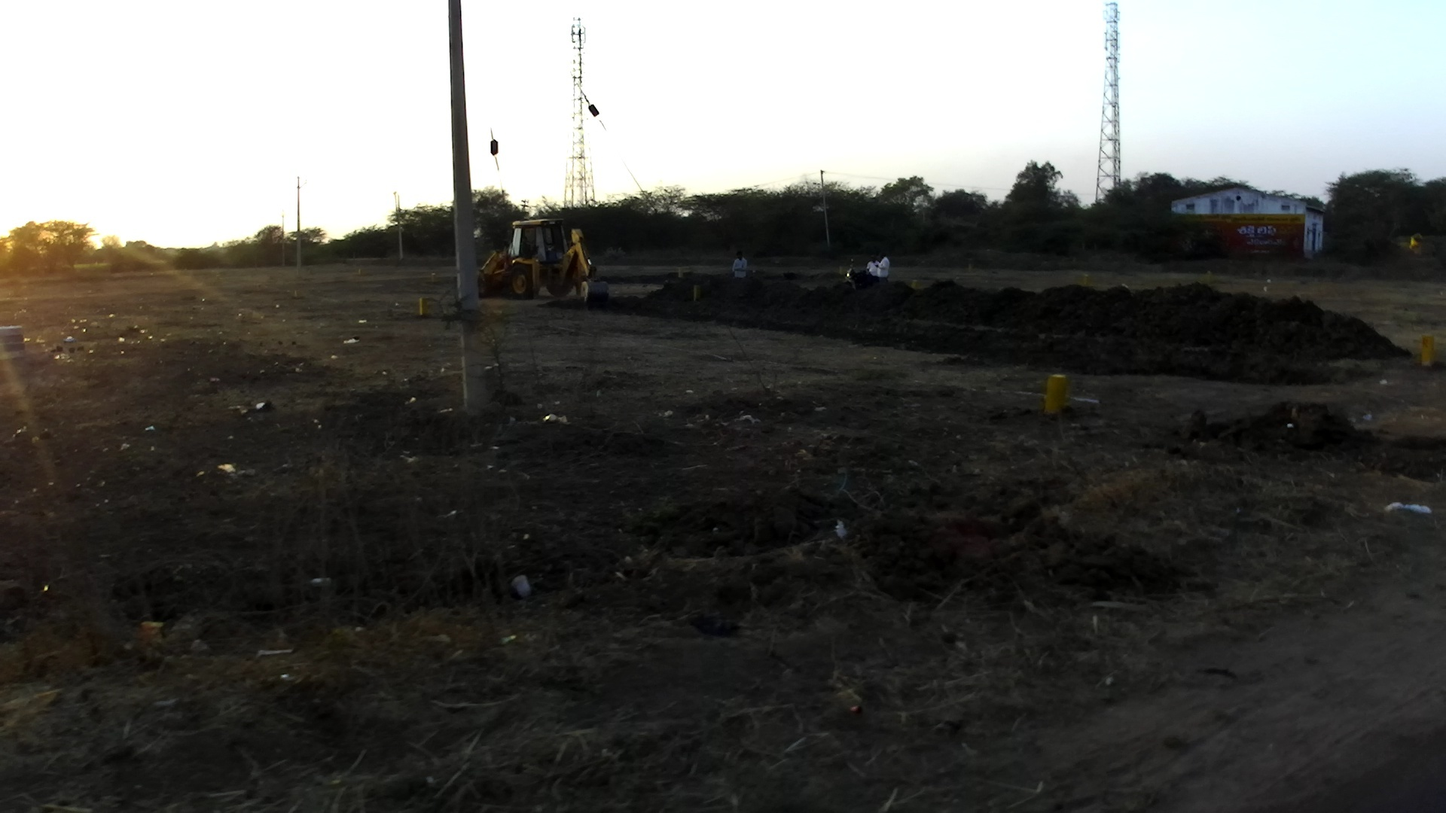motorcycle: (846, 259, 870, 285)
person: (731, 249, 748, 278), (875, 251, 889, 282), (867, 255, 880, 279)
vehicle fallback: (480, 217, 612, 308)
